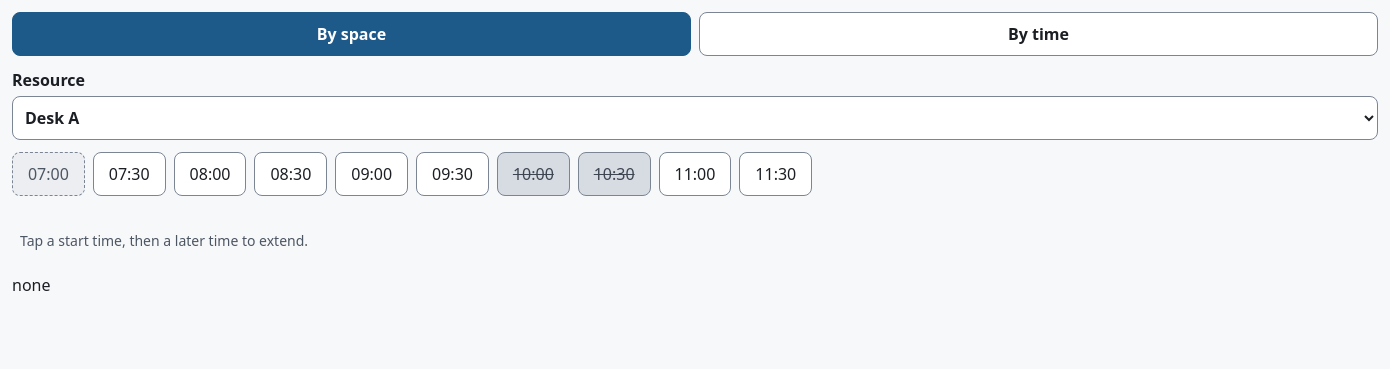
Test: SlotGrid free counts (VIZ-04) › compact By time view › lists a chip per half hour with its count; chosen time lists the free spaces; choosing selects the shortest booking
The width and height of the screenshot is (1390, 369).
Step 1. Click the button "By time" → (1038, 34), box [699,12,1378,56]
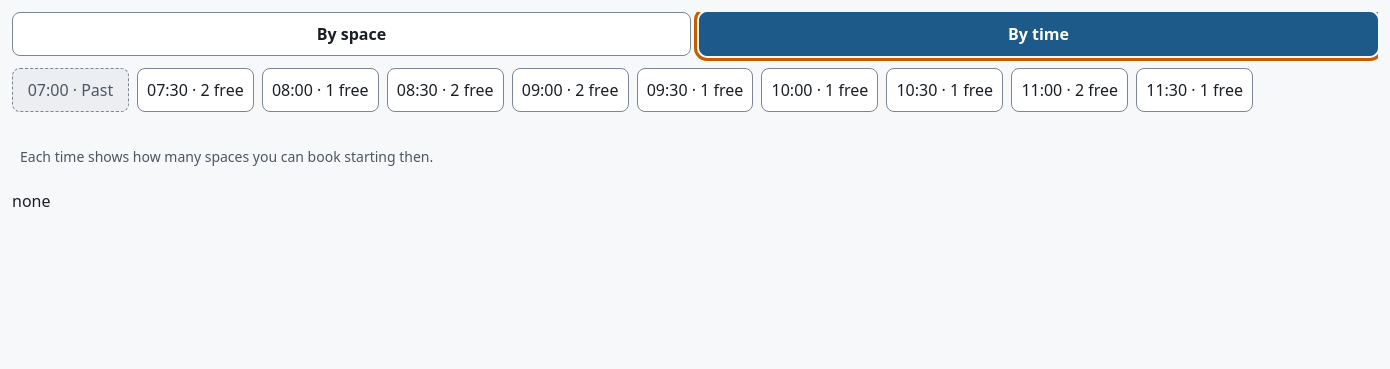
Expected: the button "07:00 · Past" is shown, [12,68,129,112]
Expected: the button "09:00 · 2 free" is shown
Expected: the button with aria-label "10:00, 1 of 3 spaces can be booked from this time" is shown, [762,68,878,112]
Step 2. Click the button with aria-label "09:00, 2 of 3 spaces can be booked from this time" → (570, 90), box [512,68,628,112]
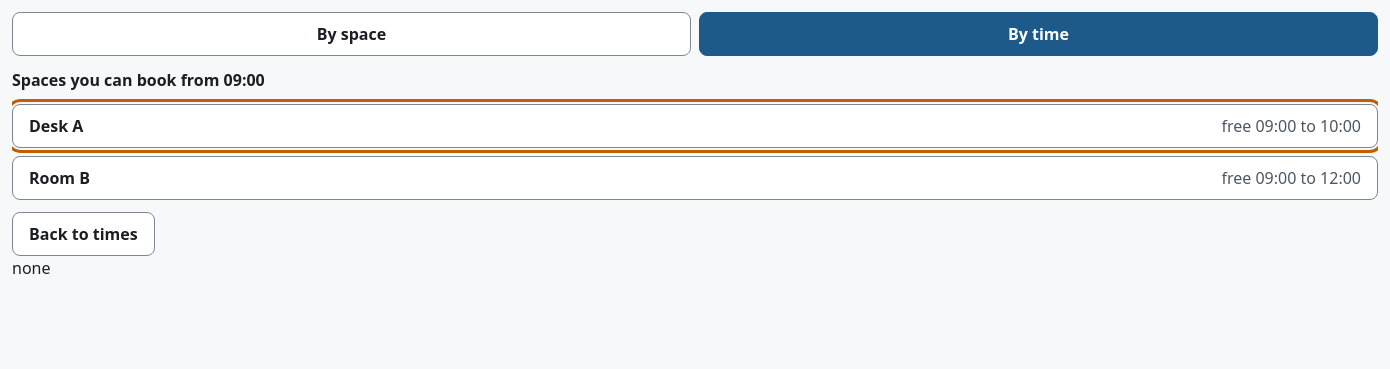
Step 3. Click the button "Desk A free 09:00 to 10:00" → (56, 126), box [12,104,1378,148]
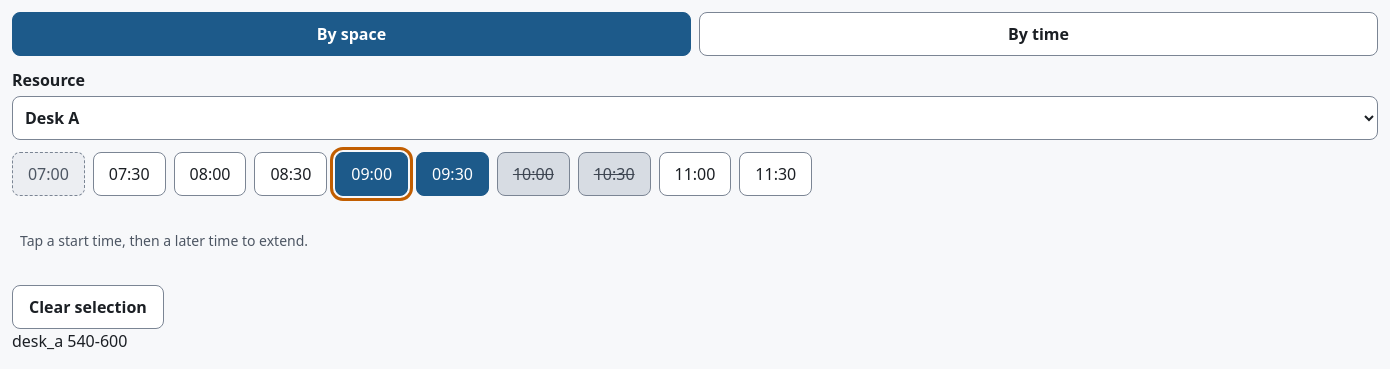
Expected: the text with test id "sel" reads "desk_a 540-600", [12,330,127,352]
Expected: the dropdown labelled "Resource" shows "Desk A", [12,96,1378,140]
Expected: the buttons read "09:00", "09:30", in this order, [335,152,408,196]; [416,152,489,196]
